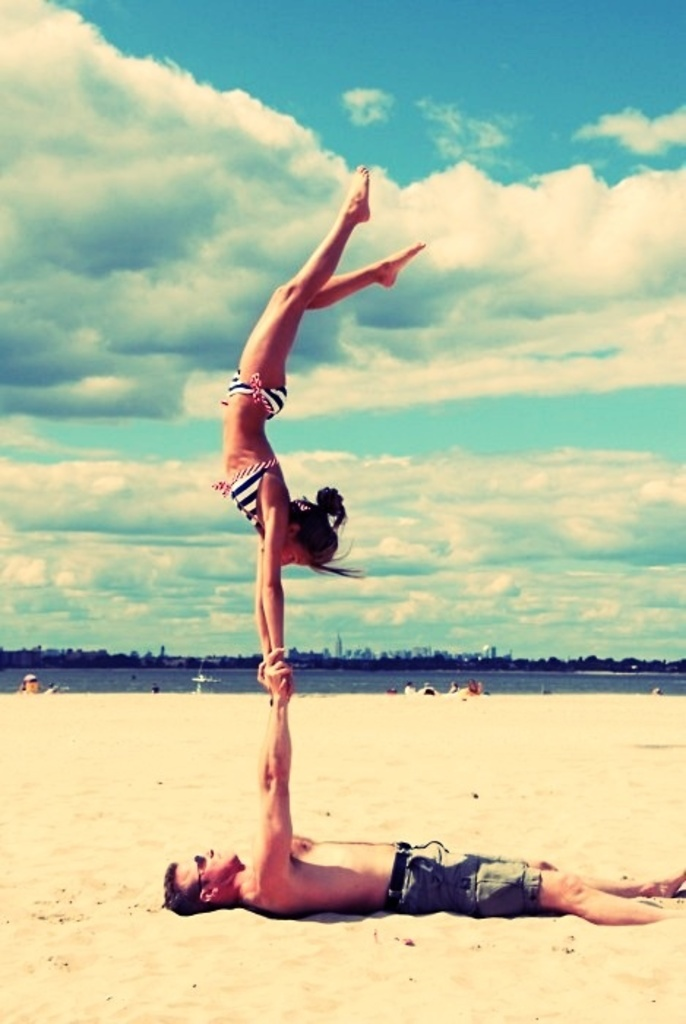Person: (163, 647, 686, 928)
